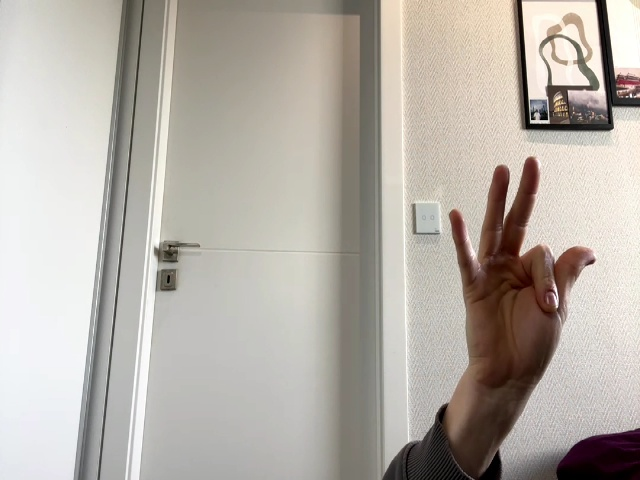F: (449, 159, 597, 392)
